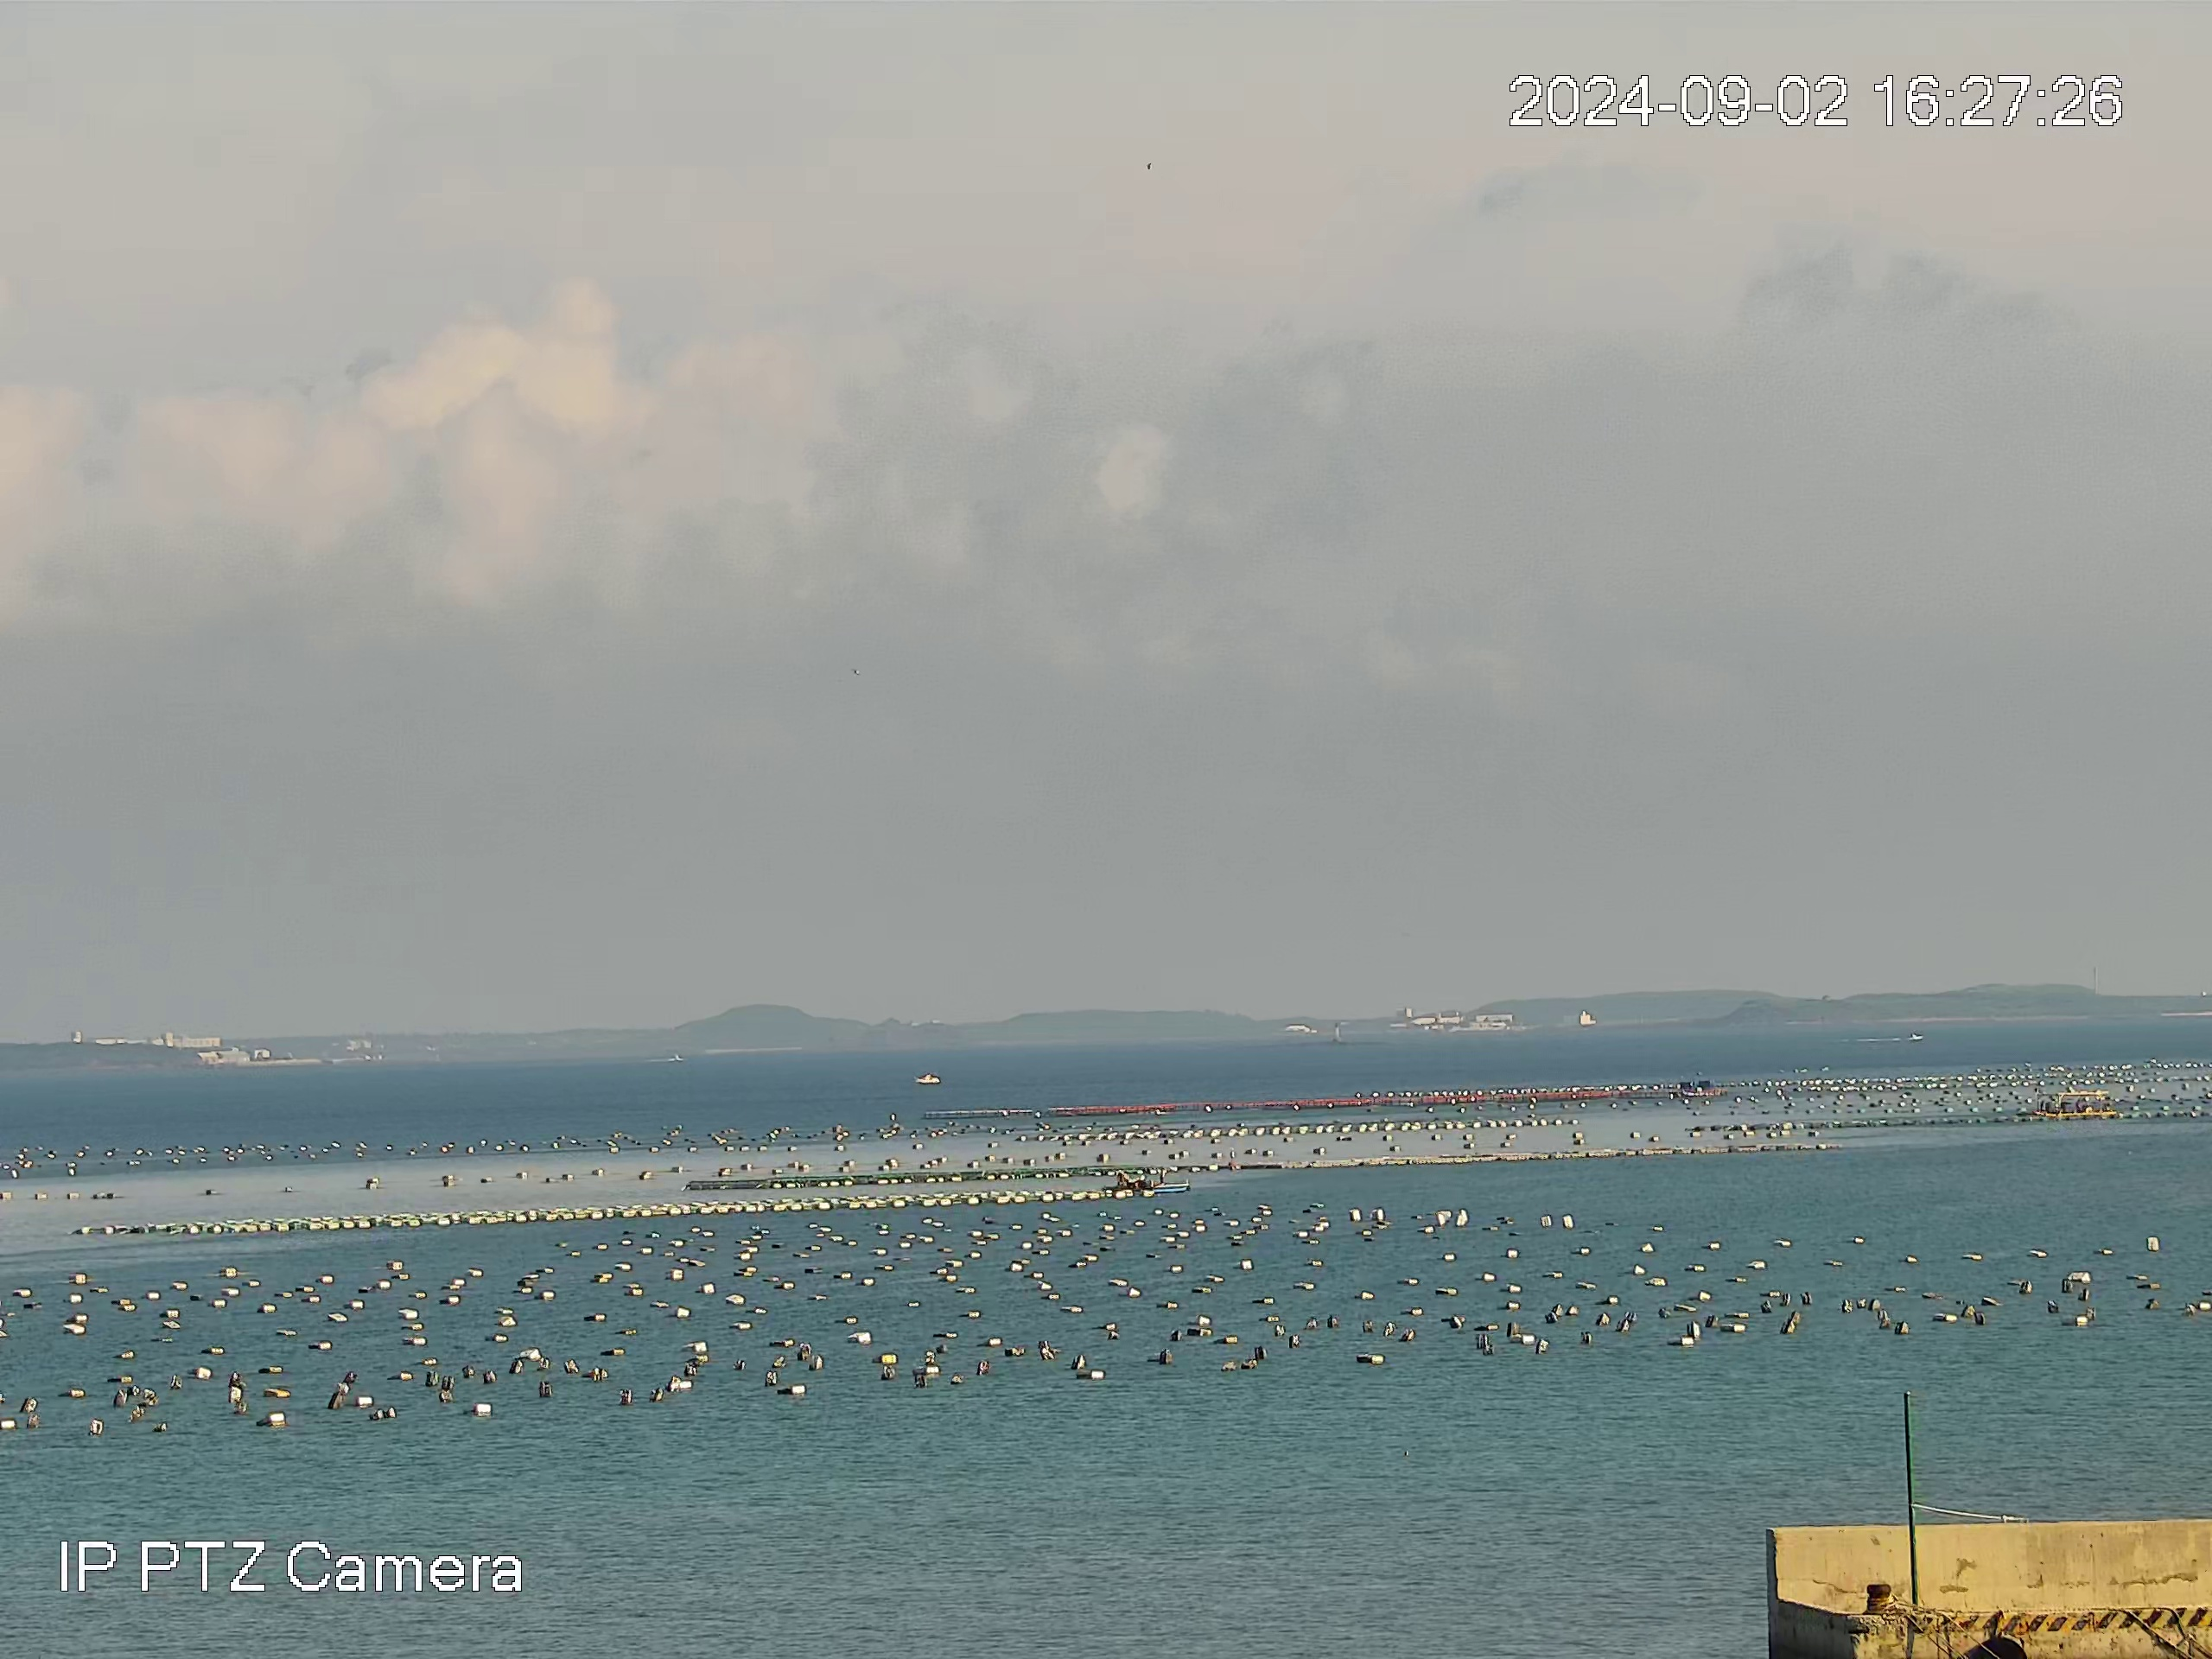boat: (2031, 1091, 2118, 1121), (1101, 1168, 1191, 1195), (914, 1072, 941, 1084)
